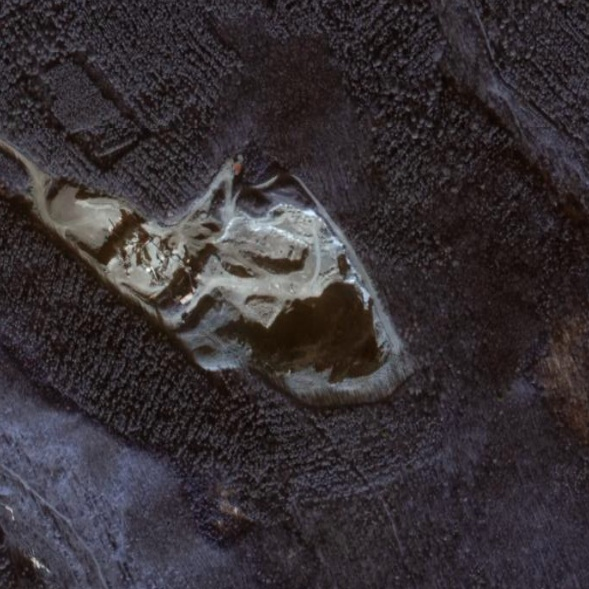slope: (34, 151, 415, 409)
